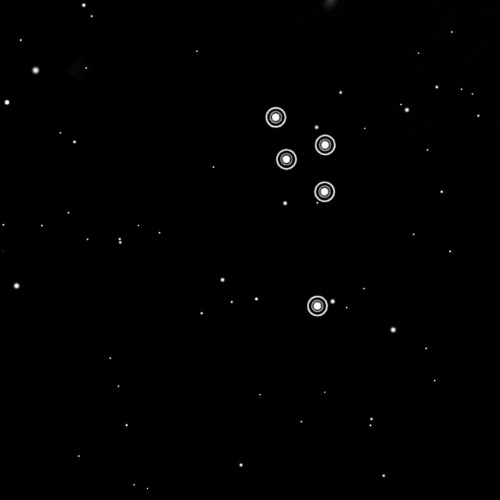delphinus: (259, 99, 343, 322)
